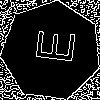E: (26, 26, 76, 65)
